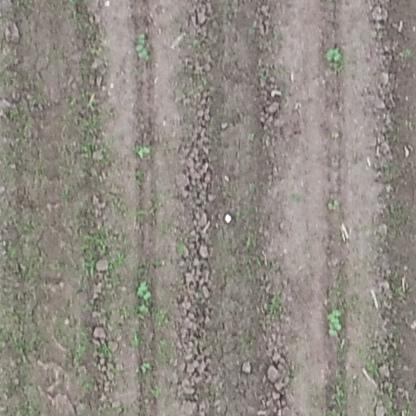vc: (132, 32, 156, 63), (324, 306, 345, 337), (323, 43, 343, 64), (134, 281, 153, 302), (324, 197, 342, 215), (135, 143, 152, 159), (137, 304, 150, 317), (140, 361, 151, 373)
